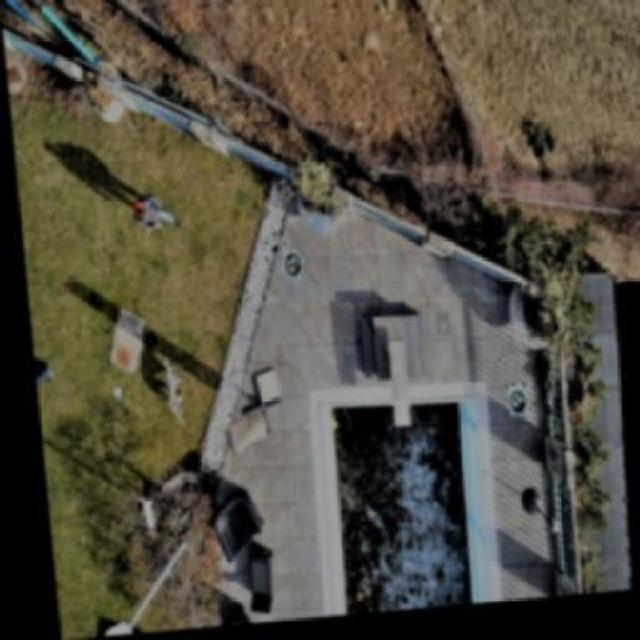Person: (113, 188, 182, 248)
